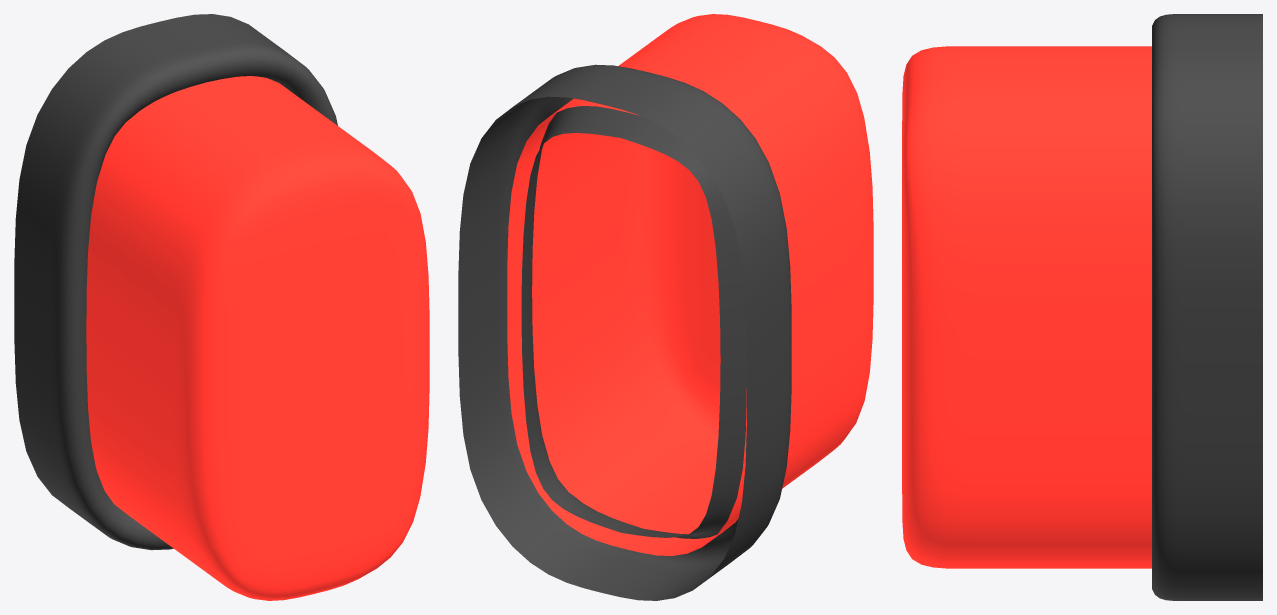
Rendered from Light.glb.
3 views of the same model, side by side, from view 1: azimuth 30°, elevation 25°; view 2: azimuth 150°, elevation 25°; view 3: azimuth 270°, elevation 25° (orthographic). The views are drawn at different scales.
Parts seen in each view (by area): view 1: Light_Casing.001, Light_Casing; view 2: Light_Casing.001, Light_Casing; view 3: Light_Casing.001, Light_Casing.
Part boxes in pixels (x1,y1,x2,y2): Light_Casing.001: [86, 76, 429, 600]; Light_Casing: [14, 14, 337, 550]; Light_Casing.001: [507, 14, 873, 555]; Light_Casing: [458, 64, 791, 600]; Light_Casing.001: [902, 46, 1151, 568]; Light_Casing: [1152, 14, 1262, 600].
Size of the model in its own units: 0.3245 by 0.5245 by 0.3192.
